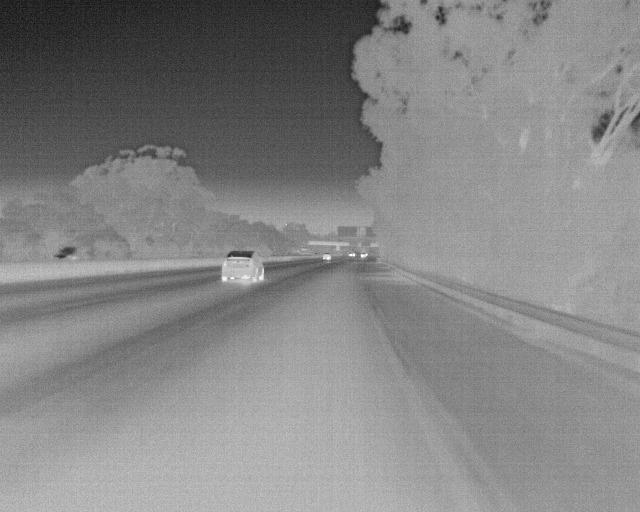car: (220, 249, 266, 285), (52, 245, 84, 263), (356, 248, 369, 263), (320, 252, 333, 264), (347, 249, 359, 261)
